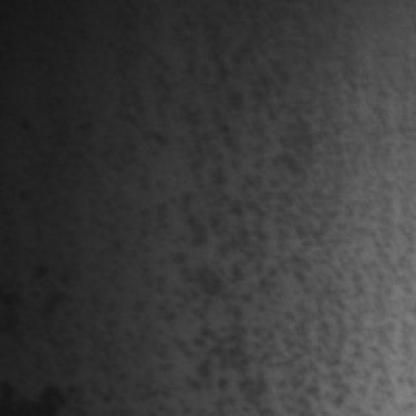pitted_surface: (97, 31, 416, 409)
